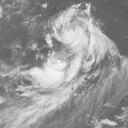cyclone: (52, 12, 98, 49)
